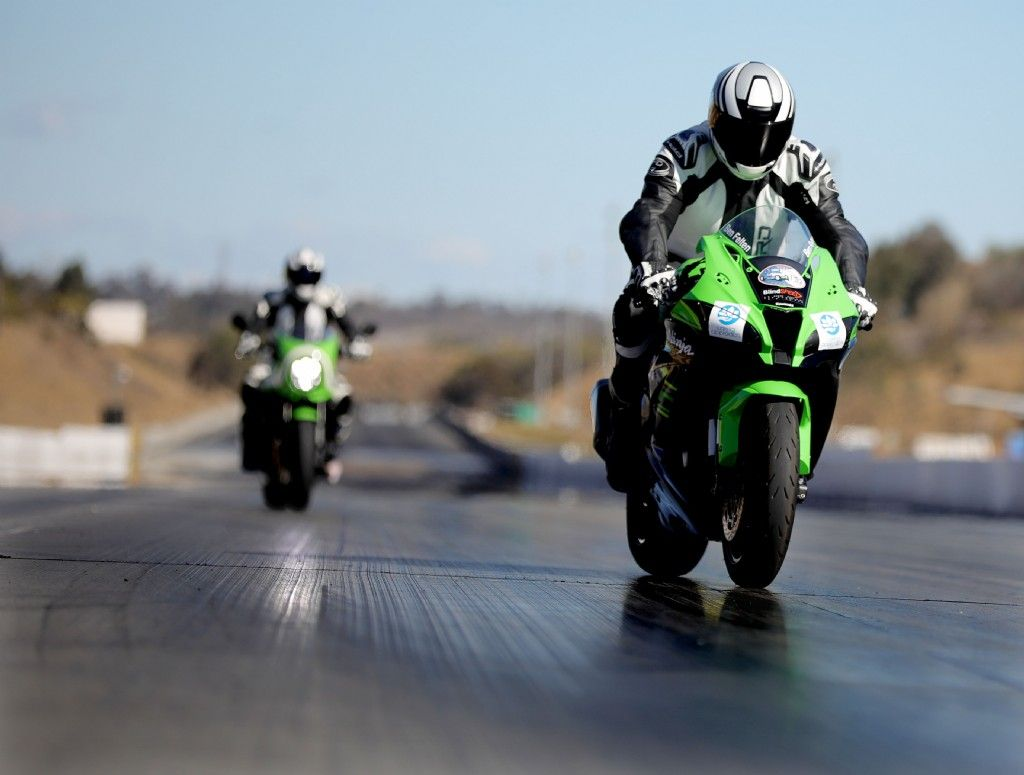helmet: (688, 51, 803, 190)
